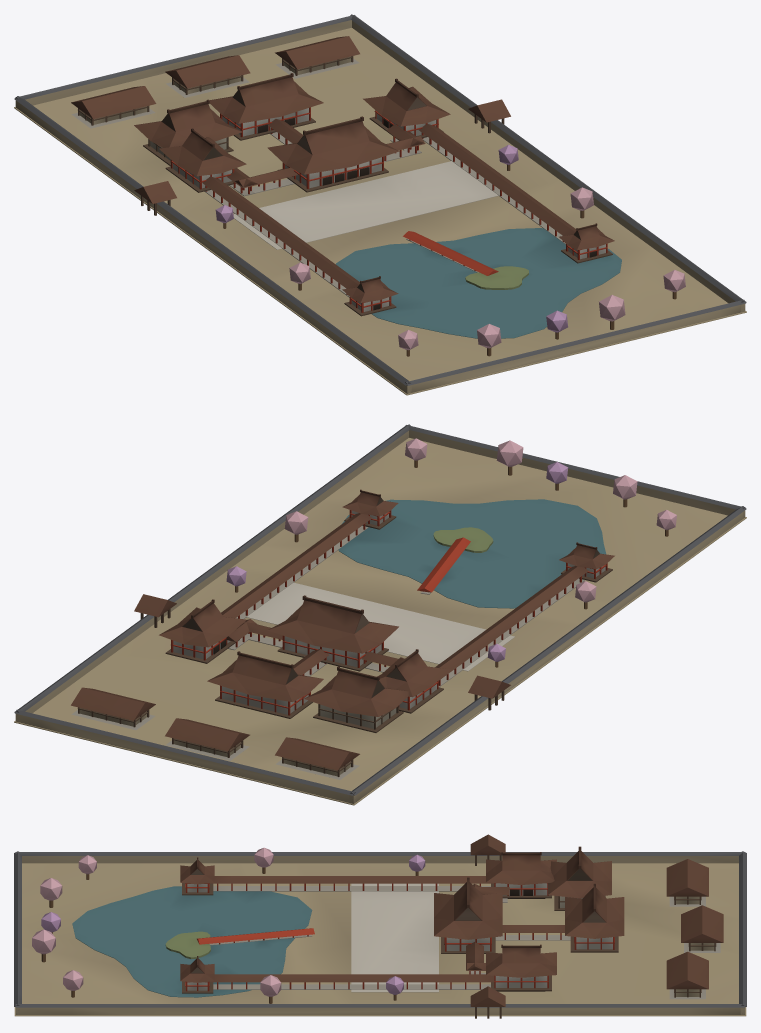
File: hana-no-gosho.glb
3 renders of one model, top to bottom at view 1: azimuth 30°, elevation 25°; view 2: azimuth 150°, elevation 25°; view 3: azimuth 270°, elevation 25°, orthographic. The views are drawn at different scales.
Visible parts, largest first — view 1: p0_grounds, p2_roofs, p1_halls; view 2: p0_grounds, p2_roofs, p1_halls; view 3: p0_grounds, p2_roofs, p1_halls.
Boxes of the visible parts, left/top/right/bottom form: p0_grounds: left=14, top=14, right=746, bottom=395; p2_roofs: left=71, top=36, right=685, bottom=356; p1_halls: left=71, top=56, right=612, bottom=316; p0_grounds: left=14, top=424, right=746, bottom=805; p2_roofs: left=71, top=438, right=676, bottom=770; p1_halls: left=71, top=510, right=612, bottom=779; p0_grounds: left=14, top=851, right=746, bottom=1016; p2_roofs: left=32, top=846, right=723, bottom=1003; p1_halls: left=182, top=834, right=720, bottom=1018.
Size of the model in its own units: 116 by 16 by 220.
